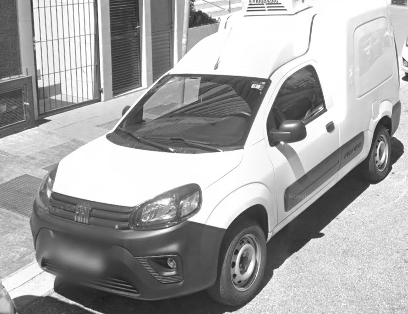car: (31, 14, 400, 304)
